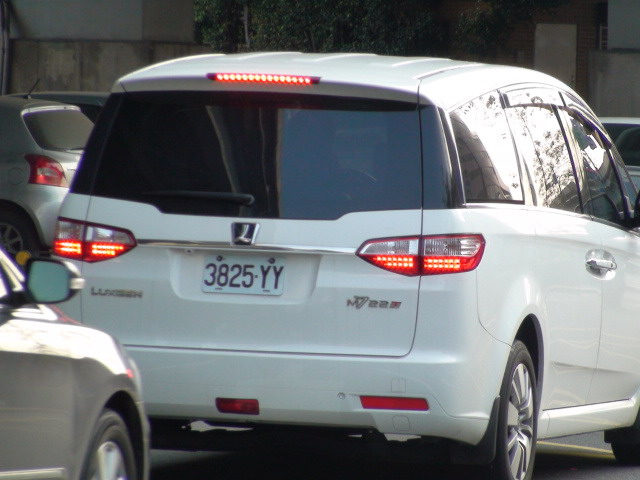plate: (203, 251, 288, 300)
